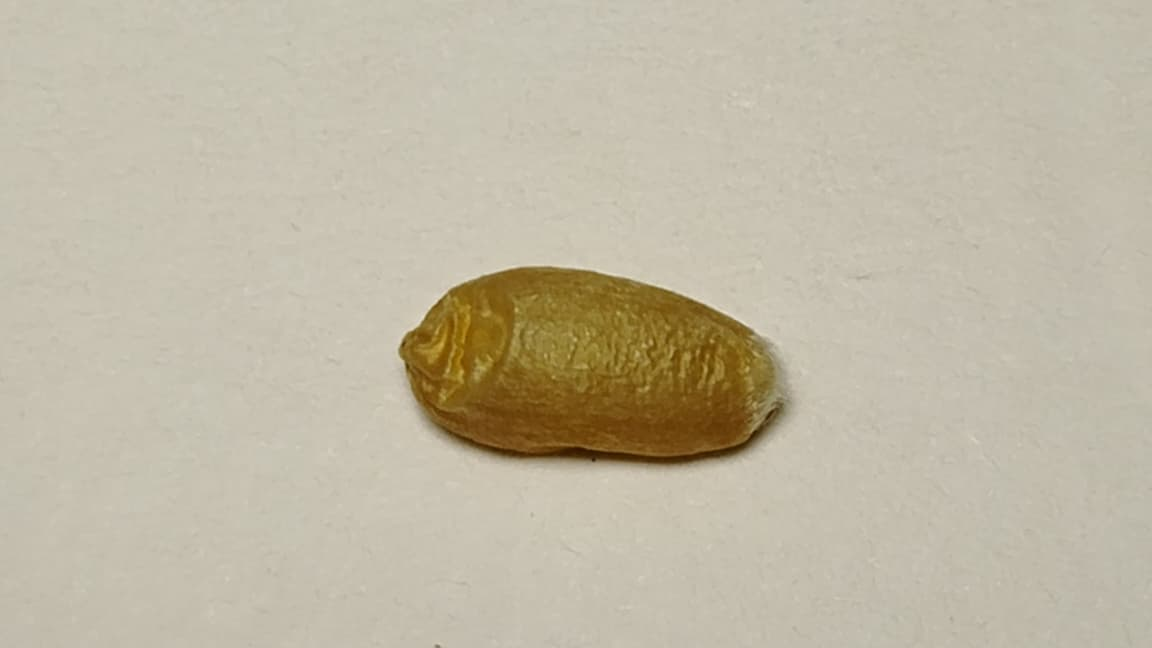healthy: (401, 266, 774, 458)
